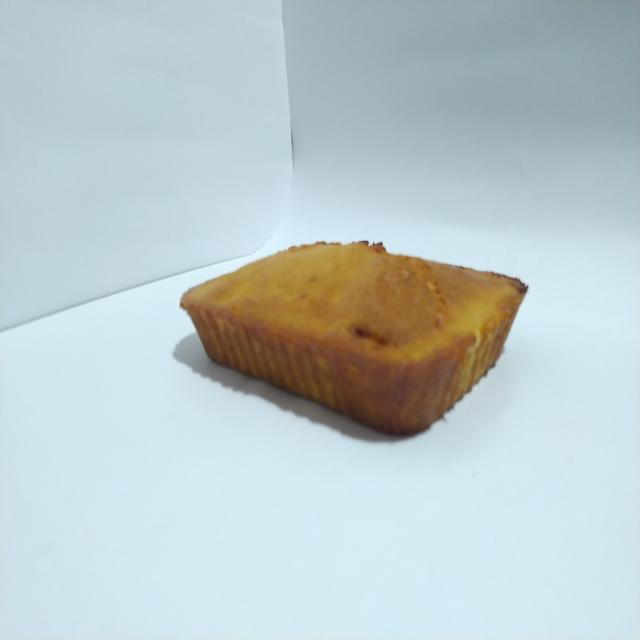Food: (173, 230, 539, 442)
